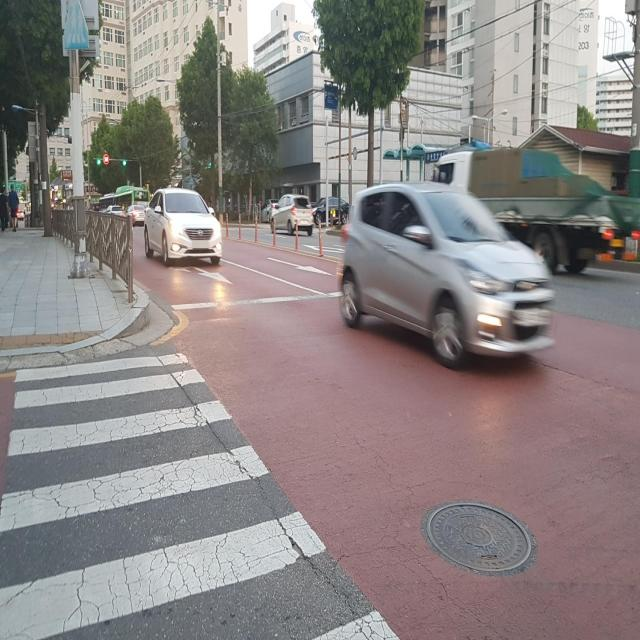횡단보도: (0, 346, 404, 640)
